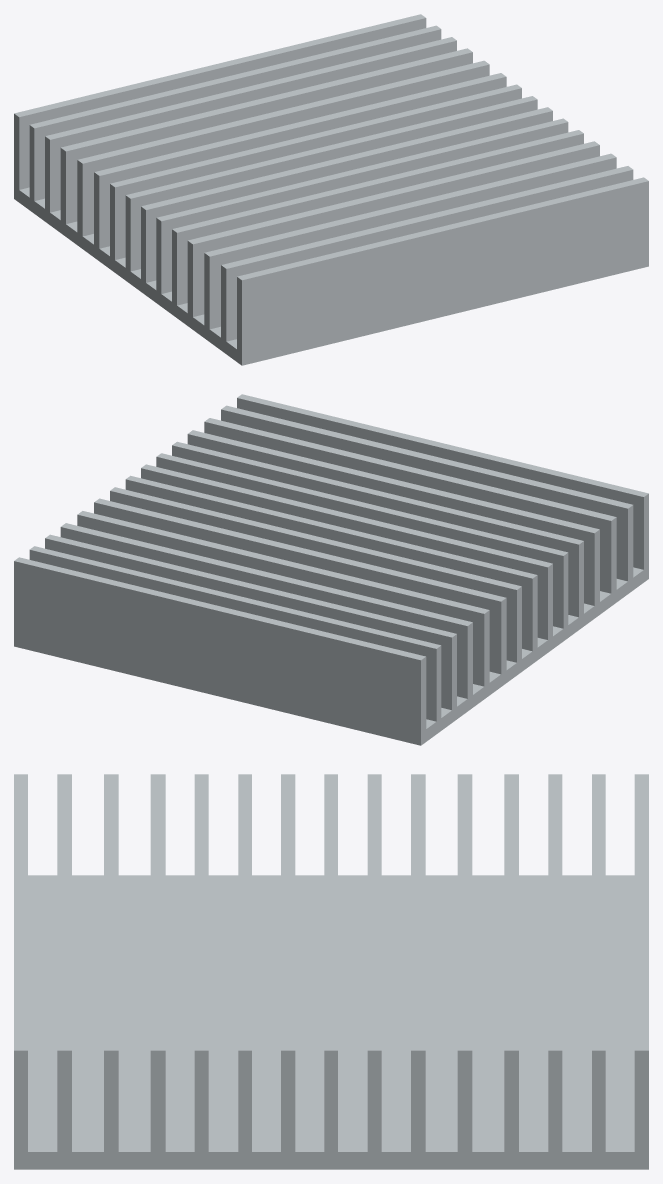
File: DU_電路板_藍_大散熱片.fbx
3 renders of one model, top to bottom at view 1: azimuth 30°, elevation 25°; view 2: azimuth 150°, elevation 25°; view 3: azimuth 270°, elevation 25°, orthographic. The views are drawn at different scales.
Visible parts, largest first — view 1: pCube97; view 2: pCube97; view 3: pCube97.
Boxes of the visible parts, <box> form: pCube97: <box>14,14,648,365</box>; pCube97: <box>14,394,648,745</box>; pCube97: <box>14,774,648,1169</box>.
Bounding box in the file's own units: 7.01 × 1.41 × 6.8.
Materials: 1 (1 with a texture image).
